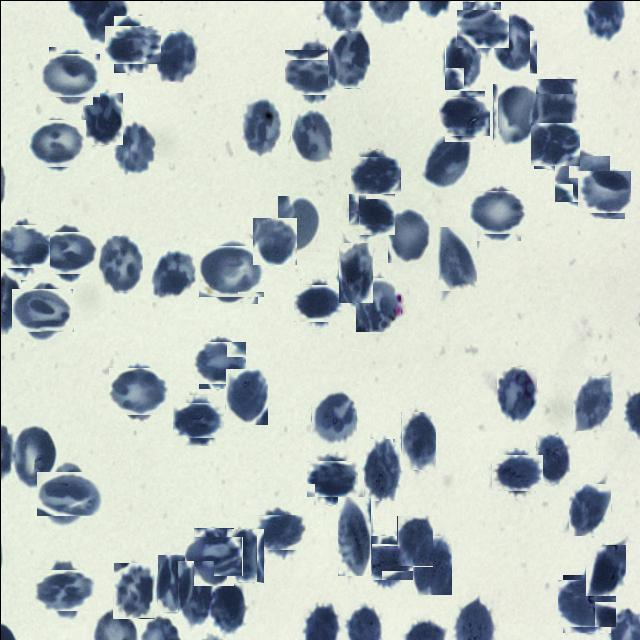red blood cell: (202, 241, 260, 300), (40, 465, 96, 520), (111, 364, 165, 418), (492, 83, 537, 147), (29, 116, 82, 170), (12, 423, 56, 488), (560, 576, 612, 630), (288, 44, 340, 98), (16, 283, 68, 336), (37, 563, 90, 615), (338, 496, 372, 575), (492, 12, 536, 73), (42, 226, 93, 278), (96, 235, 142, 292), (472, 186, 524, 236), (44, 50, 96, 100), (556, 152, 606, 204), (310, 390, 356, 446), (438, 226, 478, 290), (240, 96, 281, 158), (326, 29, 369, 88), (386, 207, 430, 263), (278, 195, 322, 251), (533, 78, 577, 134), (188, 531, 238, 580), (422, 135, 468, 188), (355, 277, 400, 331), (362, 438, 400, 501), (150, 246, 195, 299), (411, 535, 451, 594), (225, 368, 267, 424), (112, 562, 154, 618), (108, 19, 156, 68), (290, 109, 332, 164), (195, 338, 243, 386), (579, 167, 627, 215), (177, 560, 213, 624), (571, 375, 612, 431), (0, 222, 46, 270), (496, 366, 536, 421), (114, 123, 156, 175), (568, 483, 610, 535), (532, 120, 578, 166), (441, 92, 487, 138), (156, 30, 197, 81), (82, 92, 122, 144), (458, 5, 504, 50), (252, 217, 296, 264), (400, 411, 435, 470), (225, 528, 263, 582), (585, 544, 625, 595), (338, 242, 372, 302), (352, 152, 398, 196), (364, 538, 408, 584), (444, 33, 480, 89), (310, 456, 354, 501), (156, 554, 190, 612), (176, 398, 220, 442), (296, 280, 340, 324), (494, 450, 538, 494), (348, 192, 392, 236), (258, 510, 302, 553), (396, 515, 432, 566), (210, 581, 246, 630), (534, 434, 569, 484)
